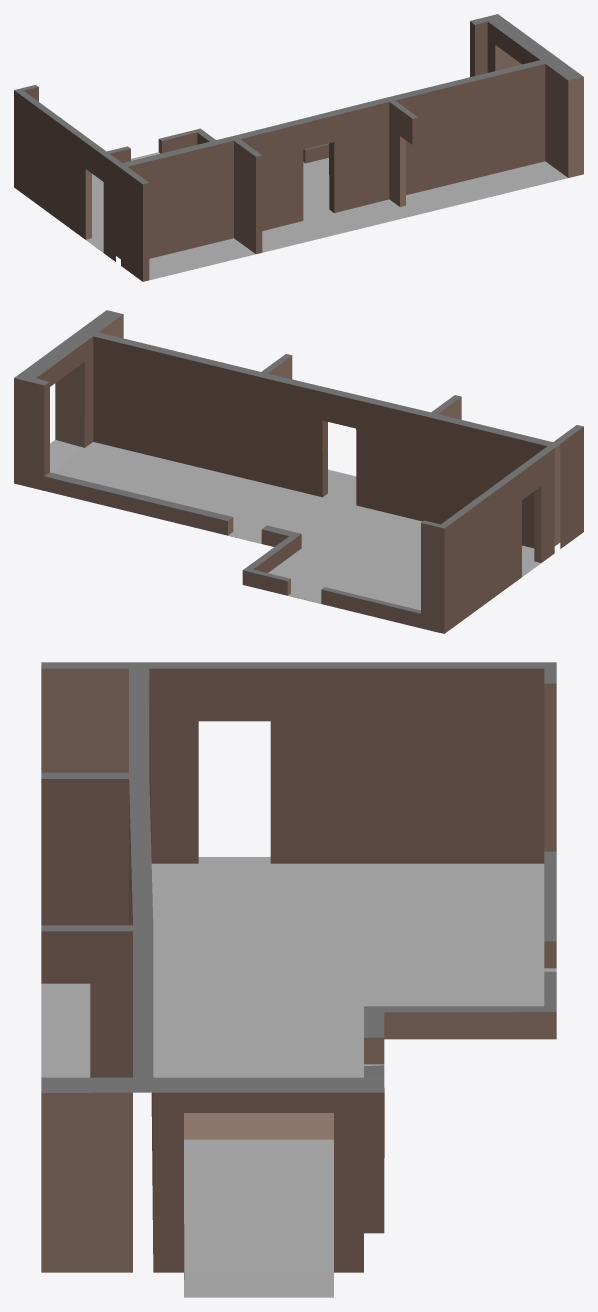
3 views of the same model, one above another, from view 1: azimuth 30°, elevation 25°; view 2: azimuth 150°, elevation 25°; view 3: azimuth 270°, elevation 25° (orthographic). The views are drawn at different scales.
Visible parts, largest first — view 1: F1_2; view 2: F1_2; view 3: F1_2.
Boxes of the visible parts, box(x1,y1,x2,y2) form: F1_2: box(14, 14, 583, 281); F1_2: box(14, 310, 583, 633); F1_2: box(41, 662, 556, 1297).
Size of the model in its own units: 1995 by 410 by 984.
